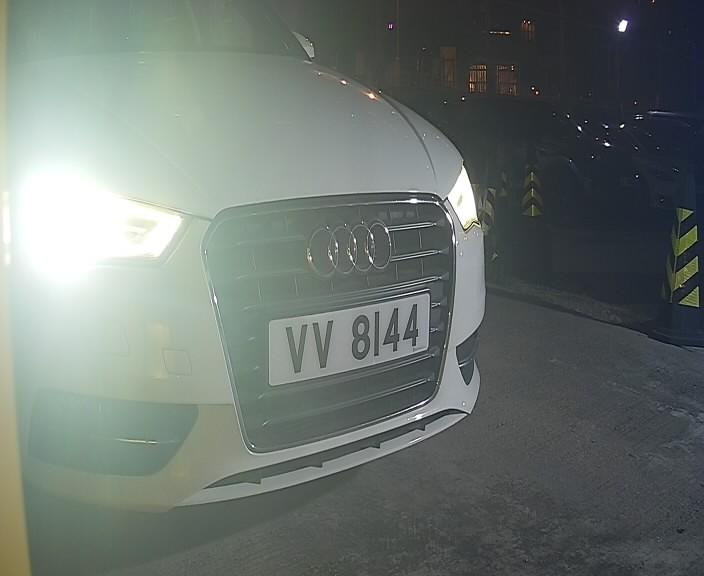License Plate: (261, 289, 428, 391)
